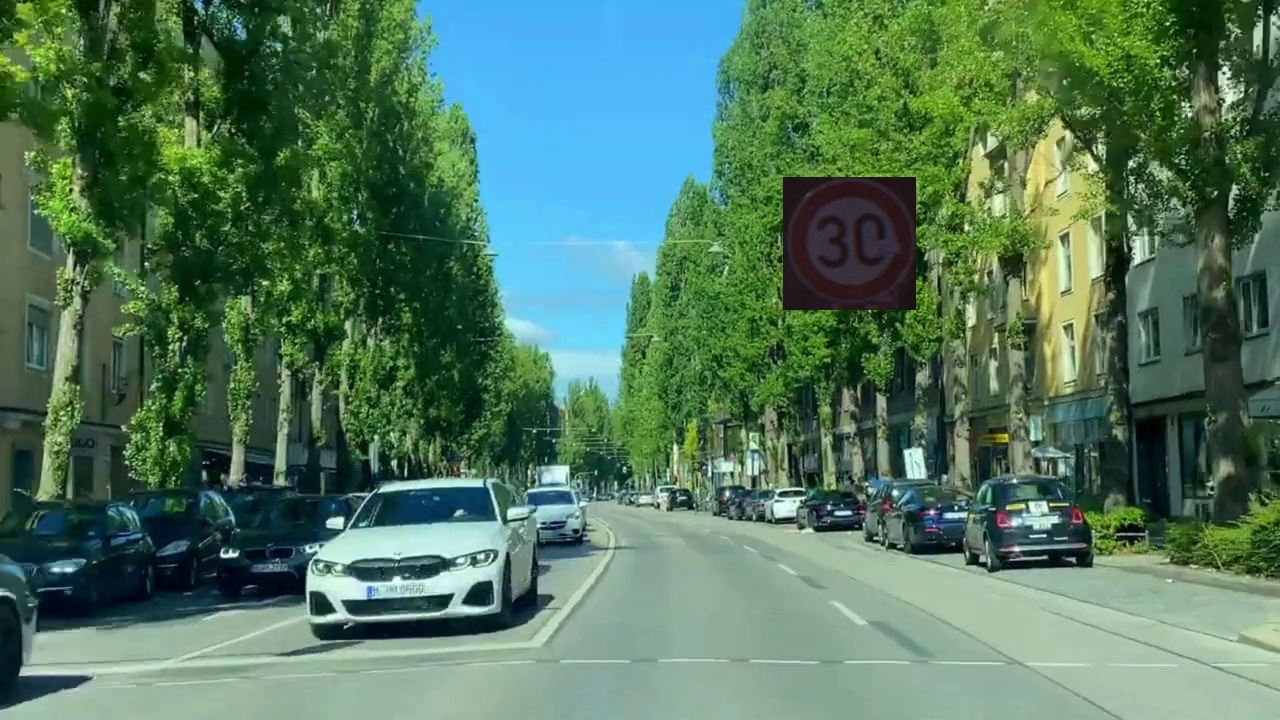Speed 30: (783, 177, 916, 310)
